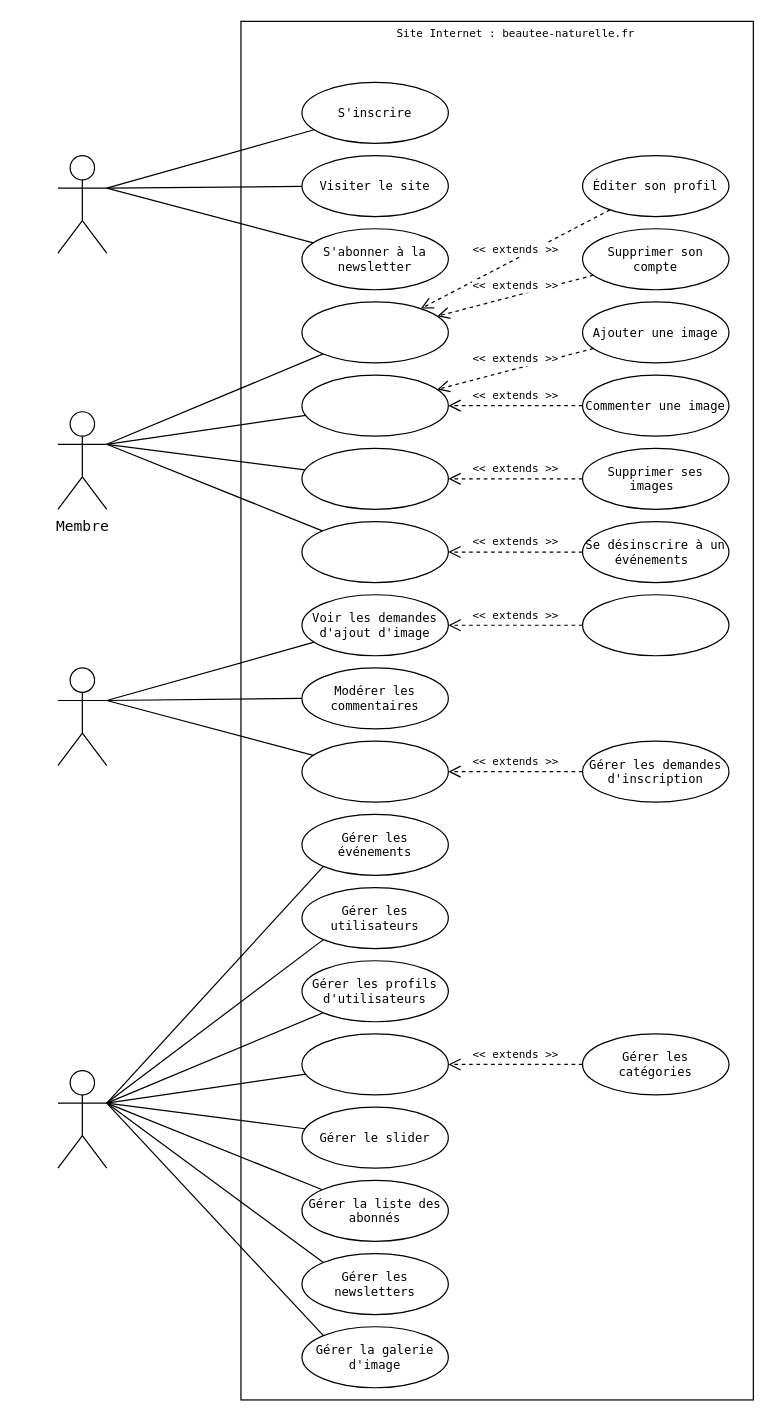
Some shapes in this 775 by 1421 pixel diagram are drawn without their labels. The shapes that lost their labels are listed below. From the top down, each one's centre as x and y in pixels, then its label:
At (x=82, y=203): "Visiteur".
At (x=374, y=332): "Voir son profil".
At (x=374, y=405): "Voir la galerie".
At (x=374, y=478): "Voir ses images".
At (x=374, y=551): "Voir ses inscriptions".
At (x=655, y=625): "Gérer les demandes d'ajout".
At (x=82, y=716): "Modérateur".
At (x=374, y=771): "Voir les demandes d'inscription".
At (x=374, y=1064): "Gérer les prestations".
At (x=82, y=1118): "Administrateur".
